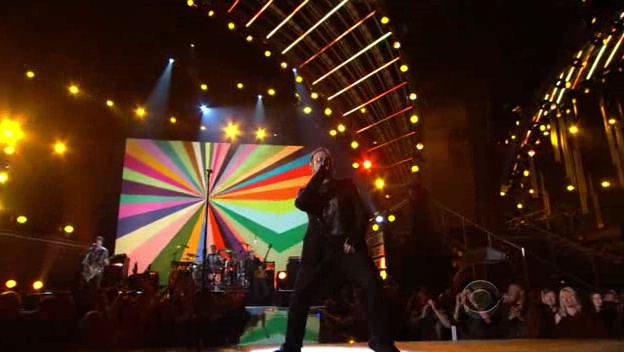person: (297, 147, 364, 268), (294, 147, 361, 268), (300, 147, 367, 268), (297, 144, 364, 265), (297, 150, 364, 271)
target_negative: (37, 23, 466, 216), (313, 87, 476, 326), (212, 94, 495, 220), (390, 116, 553, 321), (316, 292, 612, 336)
